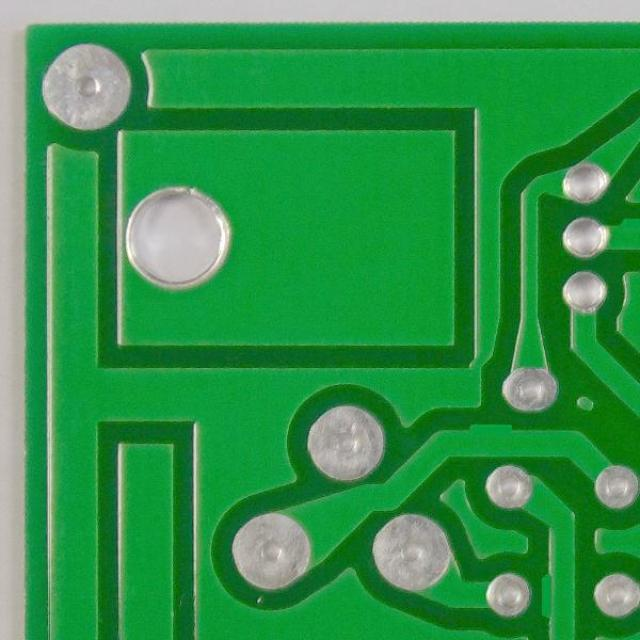Spur: (534, 559, 584, 630), (458, 415, 522, 464), (611, 211, 639, 256)
